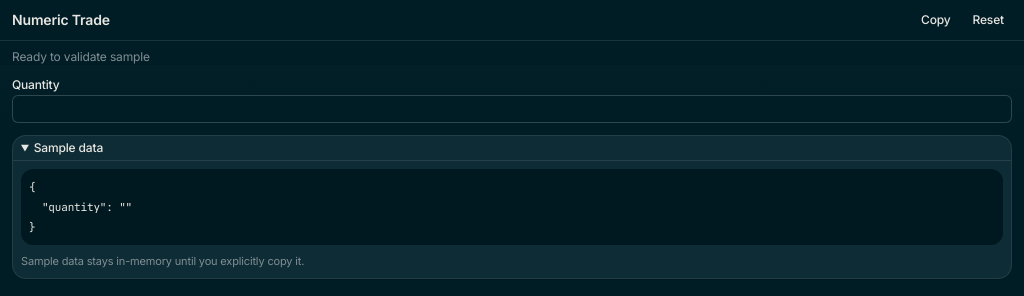
Test case: FormPreviewPanel › stores numeric sample values as numbers instead of strings
Type "42" into the number field labelled "Quantity" at (512, 109), box [12,95,1012,123]
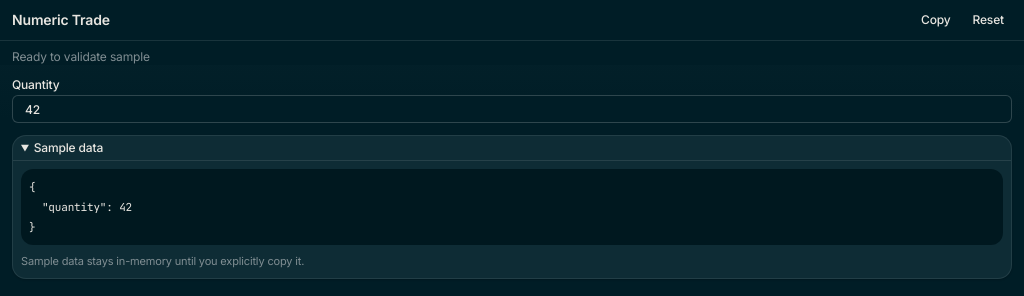
Now the text with test id "sample-data-output" shows "\"quantity\": 42", box [29,180,132,234]
